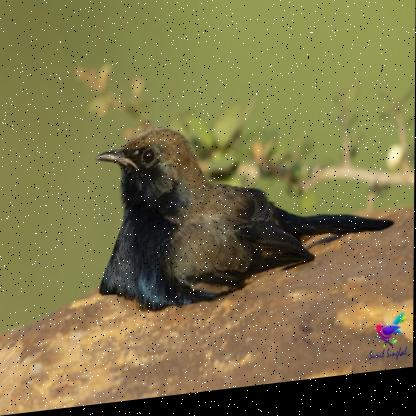Burung: (95, 108, 394, 316)
